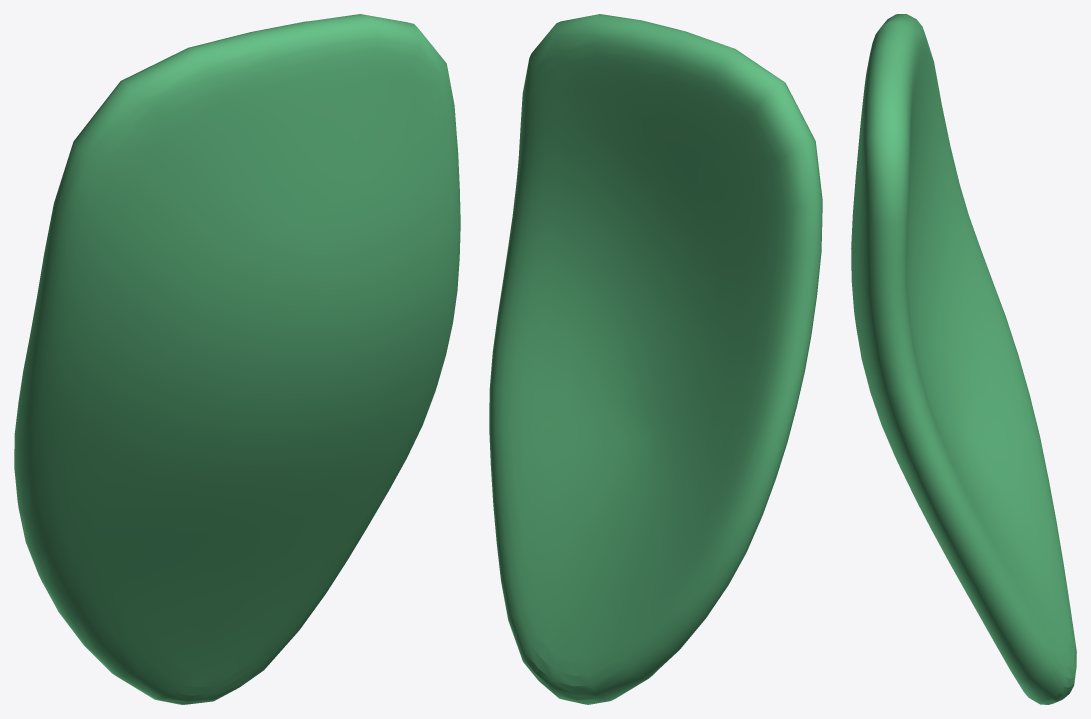
The model's file is BL1_Enamel_Diamond.001.glb.
The picture shows the model from 3 angles, left to right: view 1: azimuth 30°, elevation 25°; view 2: azimuth 150°, elevation 25°; view 3: azimuth 270°, elevation 25°; orthographic projection. The views are drawn at different scales.
Parts seen in each view (by area): view 1: BL1_Enamel_Diamond.001; view 2: BL1_Enamel_Diamond.001; view 3: BL1_Enamel_Diamond.001.
Boxes of the visible parts, box(x1,y1,x2,y2) form: BL1_Enamel_Diamond.001: box(14, 14, 460, 704); BL1_Enamel_Diamond.001: box(489, 14, 822, 704); BL1_Enamel_Diamond.001: box(851, 14, 1076, 704).
Size of the model in its own units: 0.5033 by 0.9123 by 0.2916.
